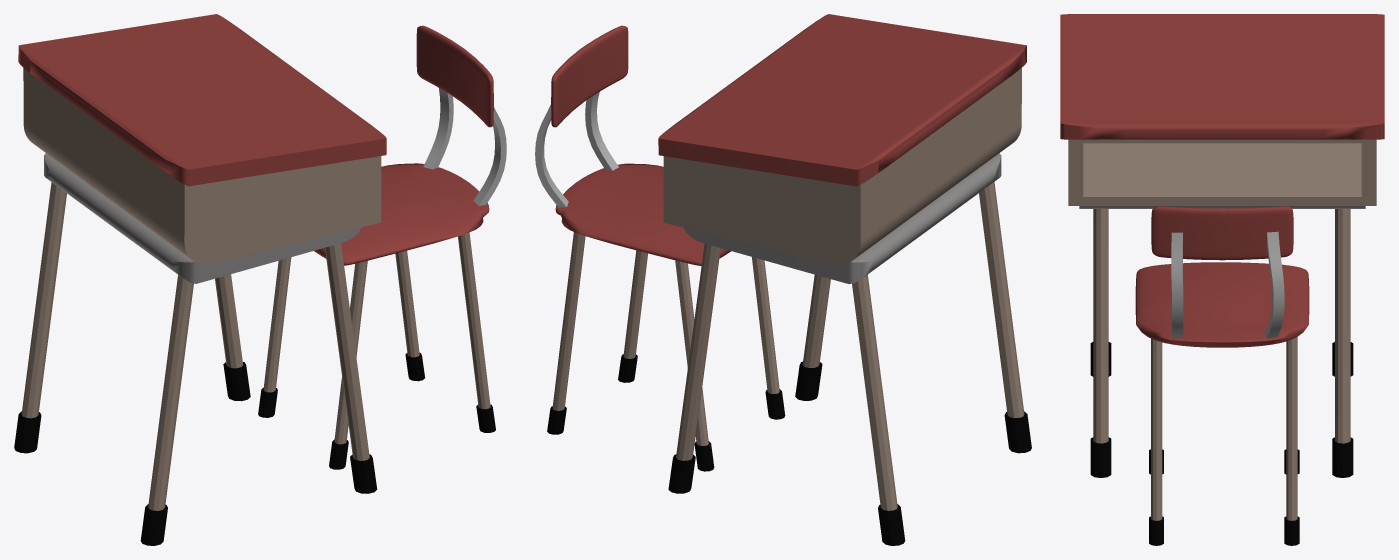
File: studentDesk_v01.fbx
3 views of the same model, side by side, from view 1: azimuth 30°, elevation 25°; view 2: azimuth 150°, elevation 25°; view 3: azimuth 270°, elevation 25° (orthographic). The views are drawn at different scales.
Parts seen in each view (by area): view 1: desk2, chaire2; view 2: desk2, chaire2; view 3: desk2, chaire2.
Boxes of the visible parts, <box> form: desk2: <box>14,14,386,545</box>; chaire2: <box>258,25,506,469</box>; desk2: <box>658,14,1031,545</box>; chaire2: <box>535,25,785,471</box>; desk2: <box>1060,14,1384,477</box>; chaire2: <box>1135,206,1309,545</box>.
Bounding box in the file's own units: 104 × 94.4 × 75.83.
